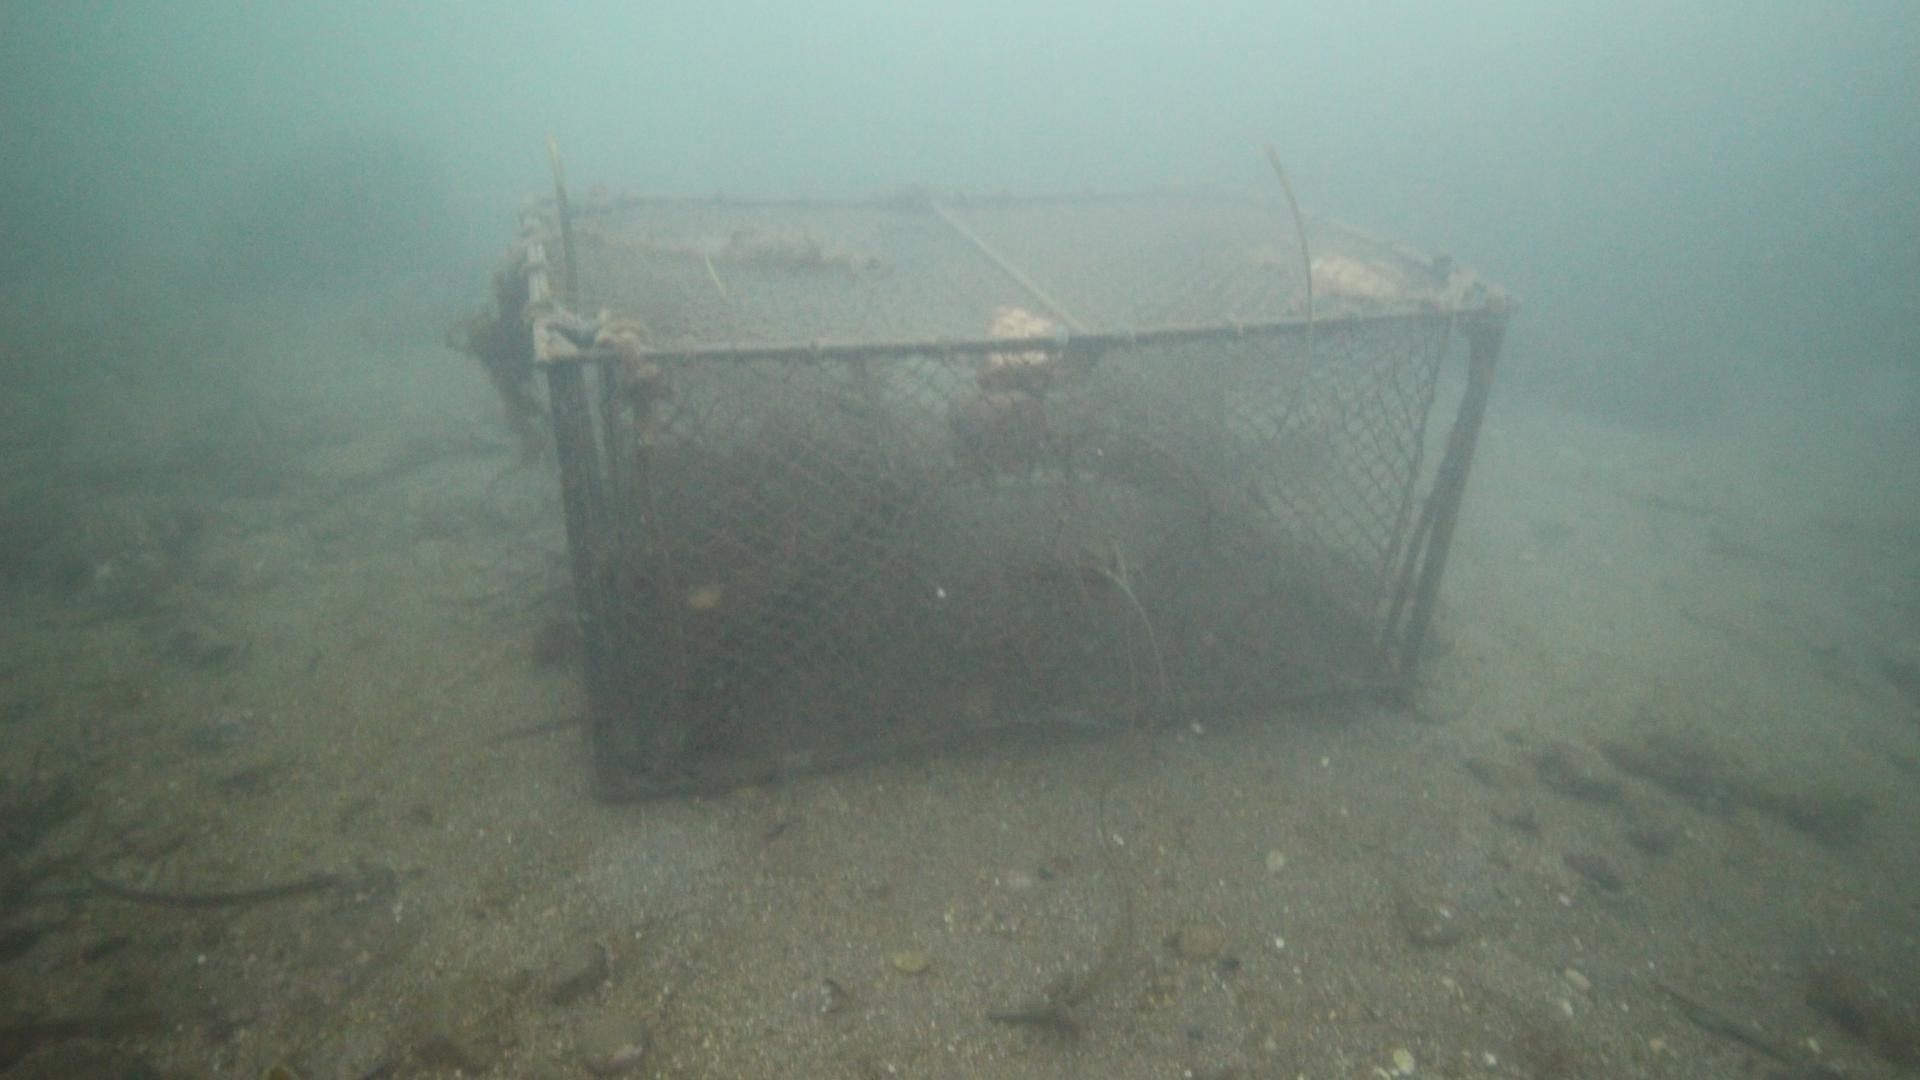rectangular fish trap: (513, 186, 1523, 810)
